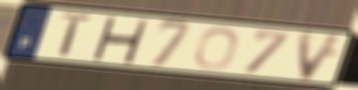7: (243, 28, 293, 76), (152, 17, 193, 70)
H: (89, 14, 151, 65)
O: (192, 25, 242, 71)
T: (57, 10, 97, 59)
V: (297, 29, 348, 83)
